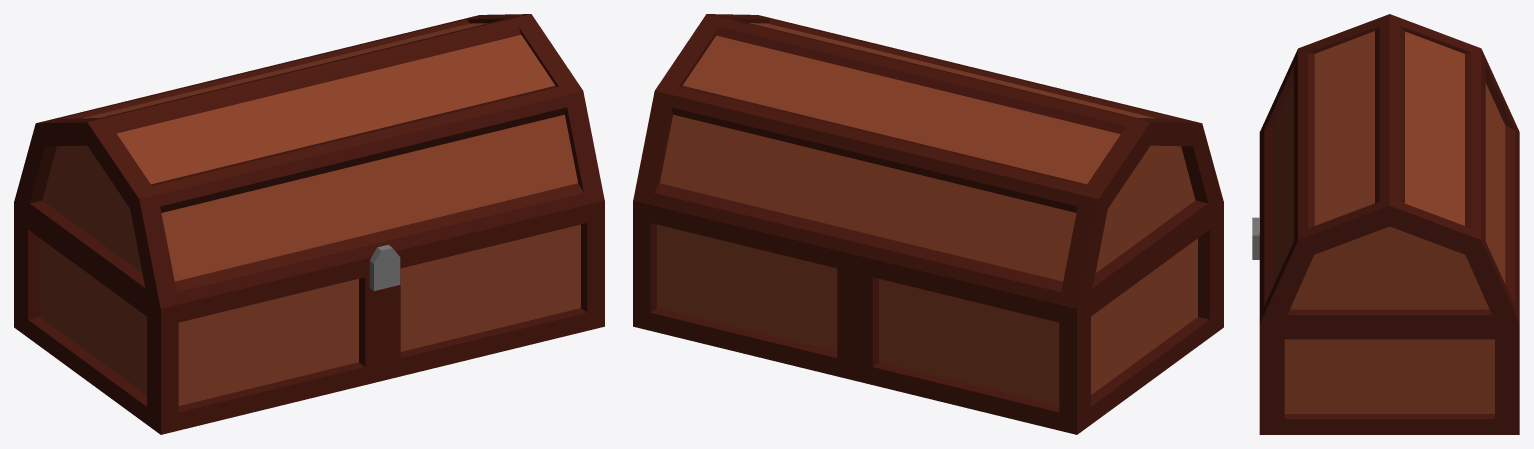
The model's file is sunduk1.fbx.
3 views of the same model, side by side, from view 1: azimuth 30°, elevation 25°; view 2: azimuth 150°, elevation 25°; view 3: azimuth 270°, elevation 25° (orthographic). The views are drawn at different scales.
Visible parts, largest first — view 1: Cube.041; view 2: Cube.041; view 3: Cube.041.
Boxes of the visible parts, x1,y1,x2,y2 form: Cube.041: [14, 14, 604, 434]; Cube.041: [633, 14, 1223, 434]; Cube.041: [1252, 14, 1519, 434].
Bounding box in the file's own units: 2 × 1.11 × 1.18.
